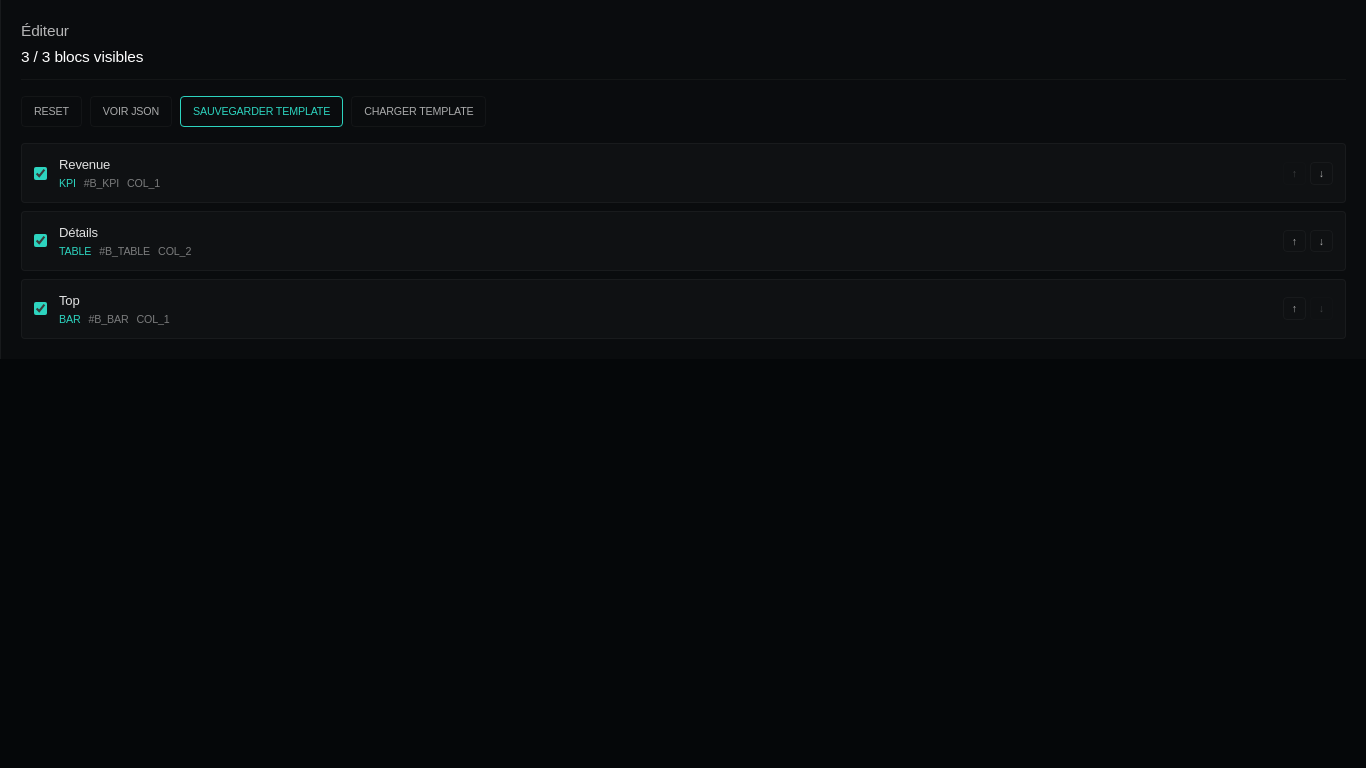
ReportEditor — preview JSON › le bouton bascule à 'Masquer JSON' quand le panneau est ouvert
The image size is (1366, 768).
Click the button with test id "report-editor-json-toggle" at [131, 112], box top-left (90, 96), bottom-right (172, 127)
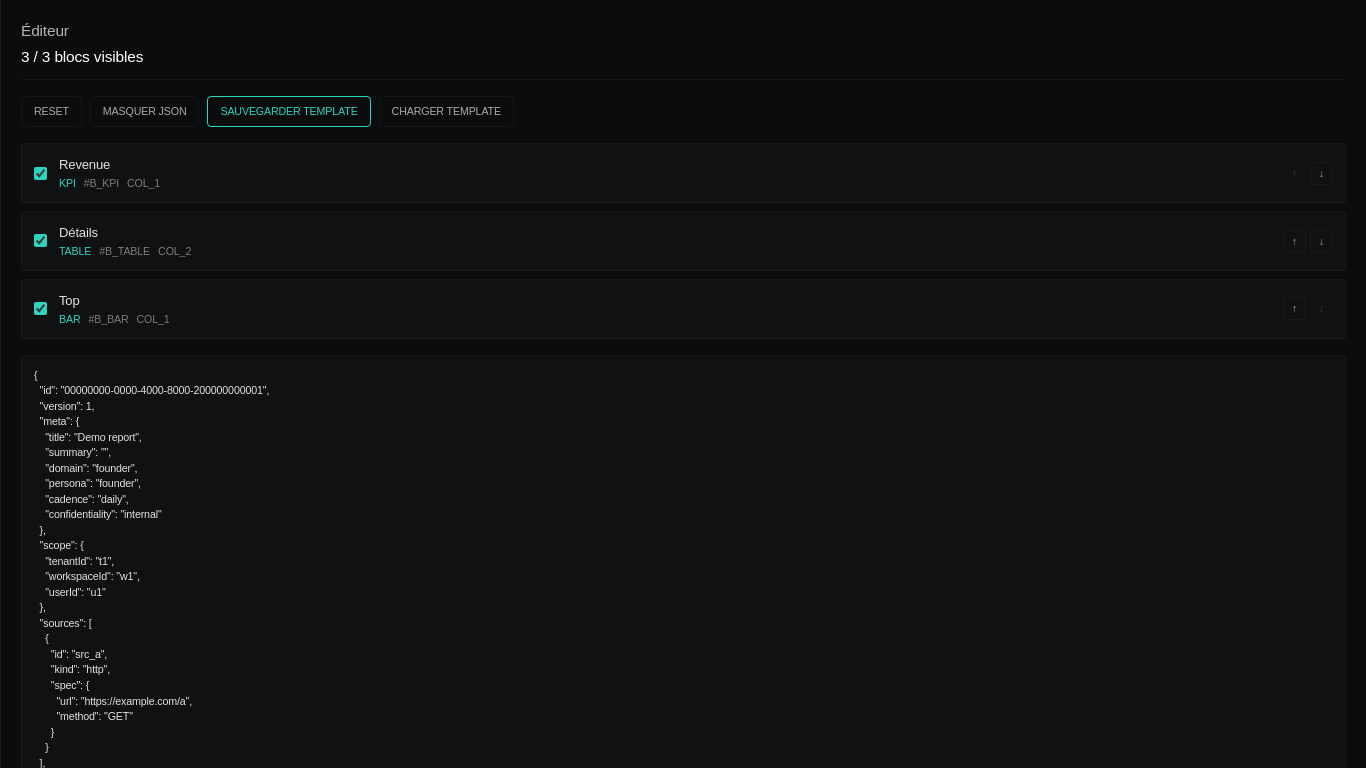
expect the button with test id "report-editor-json-toggle" reads "Masquer JSON": met, box top-left (90, 96), bottom-right (199, 127)
